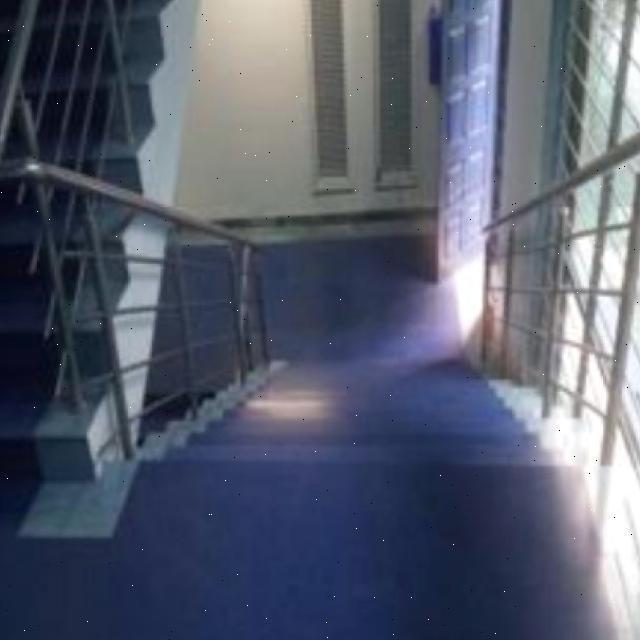stair: (188, 364, 562, 511)
